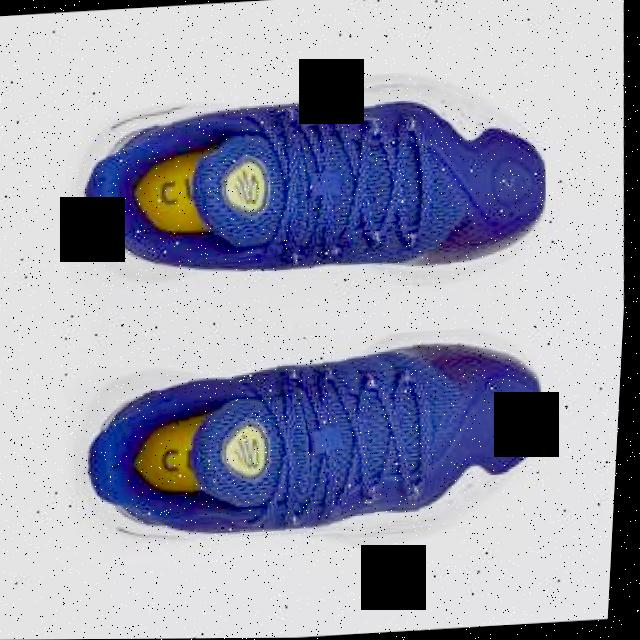shoe: (61, 65, 558, 309), (69, 325, 556, 554)
